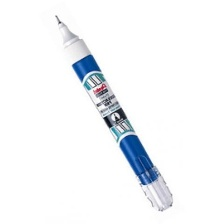correction_fluid: (52, 13, 174, 213)
